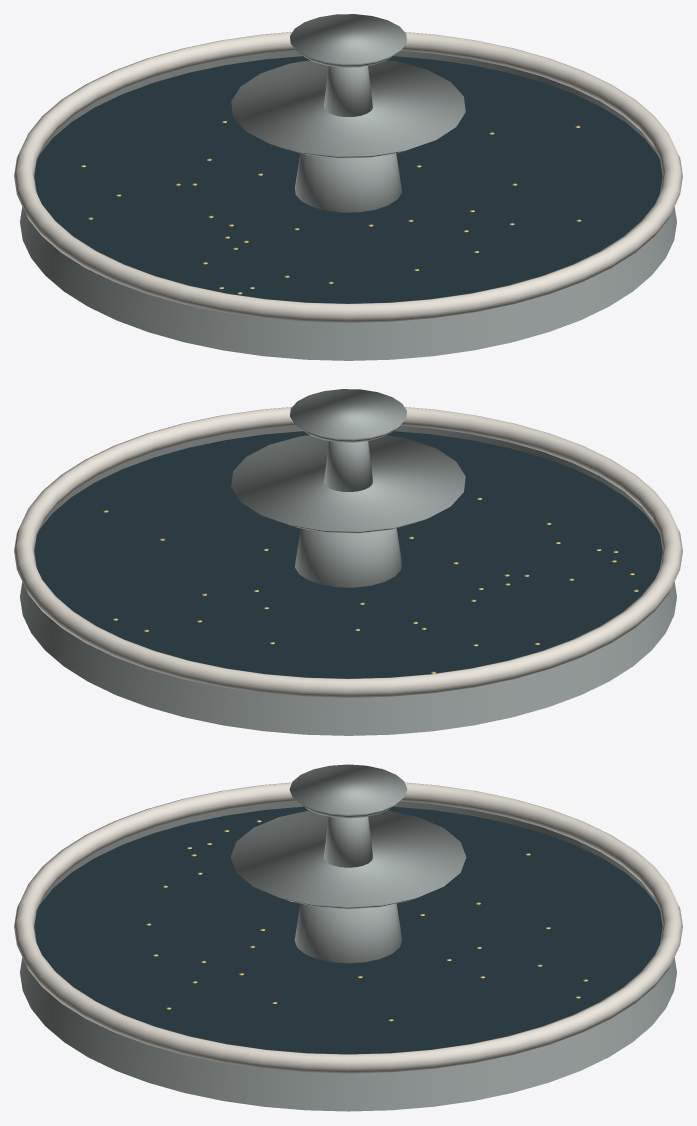
Rendered from fountain.glb.
3 renders of one model, top to bottom at view 1: azimuth 30°, elevation 25°; view 2: azimuth 150°, elevation 25°; view 3: azimuth 270°, elevation 25°, orthographic.
Parts seen in each view (by area): view 1: water, tile, rim; view 2: water, tile, rim; view 3: water, tile, rim.
Part boxes in pixels (x1=…): water: x1=34, y1=56, x2=662, y2=303; tile: x1=20, y1=14, x2=676, y2=360; rim: x1=14, y1=32, x2=682, y2=322; water: x1=34, y1=431, x2=662, y2=678; tile: x1=20, y1=389, x2=676, y2=735; rim: x1=14, y1=407, x2=682, y2=697; water: x1=34, y1=806, x2=662, y2=1054; tile: x1=20, y1=764, x2=676, y2=1111; rim: x1=14, y1=782, x2=682, y2=1073.
Bounding box in the file's own units: 7.94 × 2.4 × 7.94.
